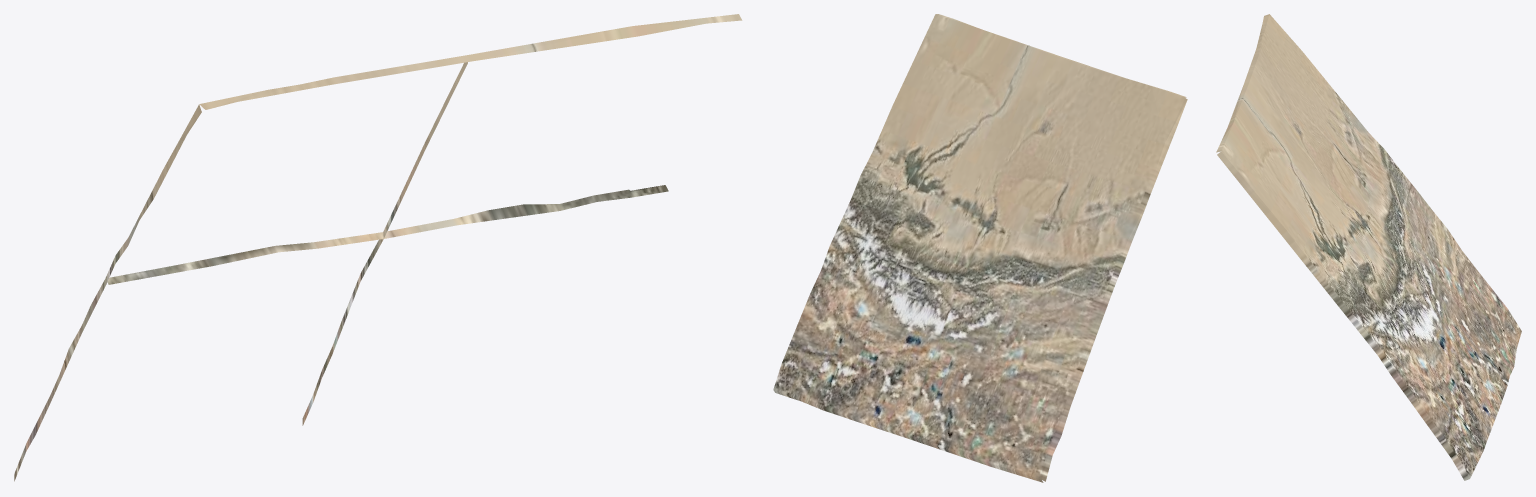
3 renders of one model, left to right at view 1: azimuth 30°, elevation 25°; view 2: azimuth 150°, elevation 25°; view 3: azimuth 270°, elevation 25°, orthographic. The views are drawn at different scales.
Bounding box in the file's own units: 557122 × 511785 × 452969.
Materials: 1 (1 with a texture image).
